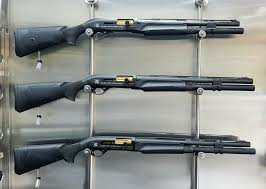gun: (9, 74, 262, 116)
